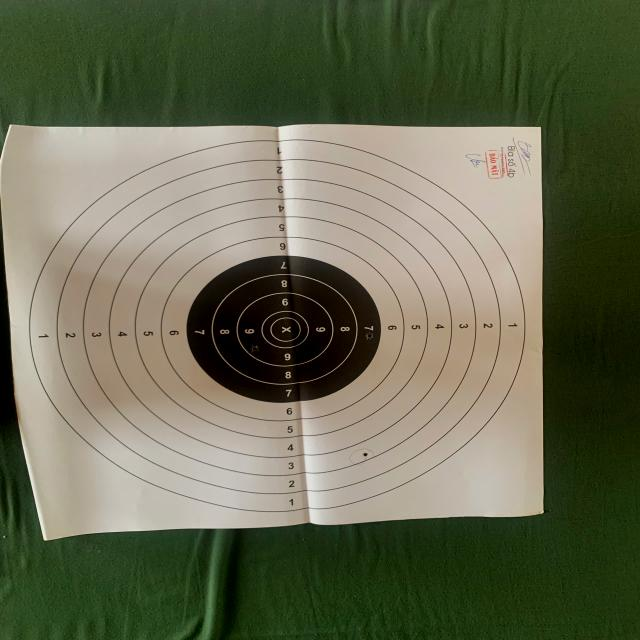bullet: (366, 332, 373, 340), (363, 452, 369, 457), (252, 346, 257, 352)
target: (2, 124, 543, 539)
